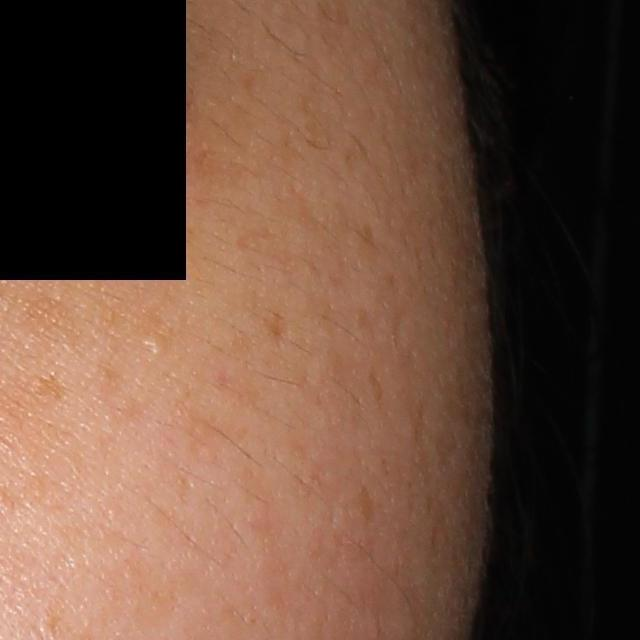comedo: (141, 336, 167, 360)
melasma: (301, 62, 353, 158), (13, 294, 84, 351), (193, 145, 265, 194), (333, 210, 385, 257), (21, 371, 74, 407), (353, 485, 376, 526), (368, 369, 387, 408)
